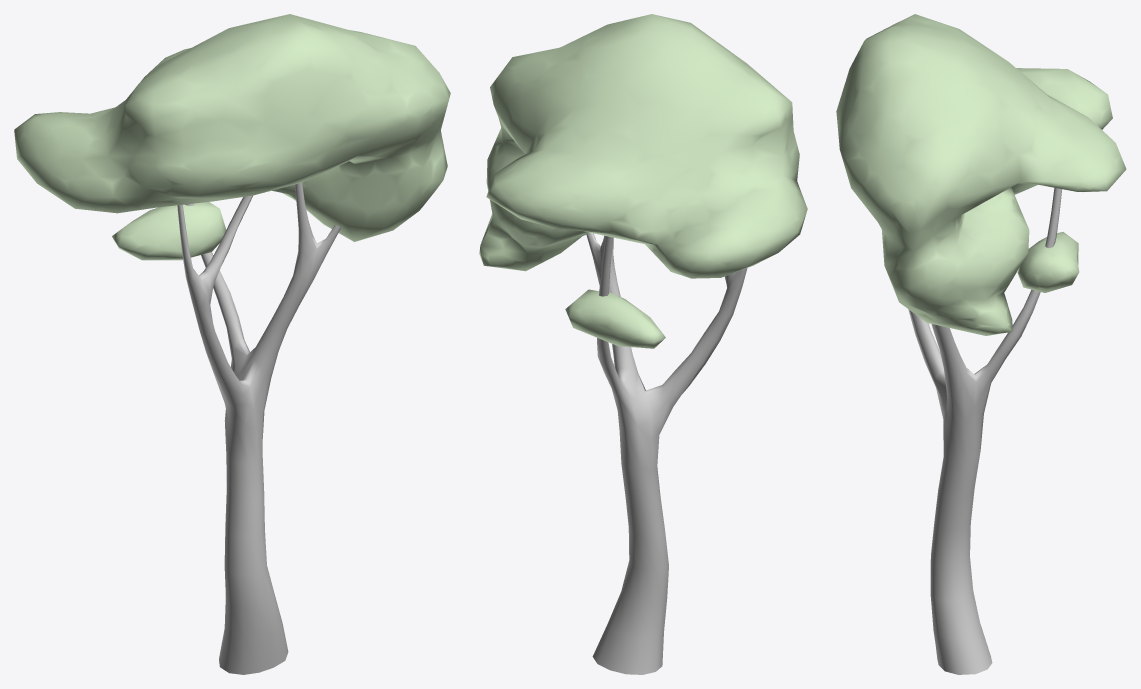
File: stylized-tree-05.fbx
3 views of the same model, side by side, from view 1: azimuth 30°, elevation 25°; view 2: azimuth 150°, elevation 25°; view 3: azimuth 270°, elevation 25° (orthographic). The views are drawn at different scales.
Parts seen in each view (by area): view 1: Tree_05_leaves, Tree_05_bark; view 2: Tree_05_leaves, Tree_05_bark; view 3: Tree_05_leaves, Tree_05_bark.
Part boxes in pixels (bbox=[...]): Tree_05_leaves: bbox=[14, 14, 450, 260]; Tree_05_bark: bbox=[177, 183, 340, 674]; Tree_05_leaves: bbox=[479, 14, 807, 348]; Tree_05_bark: bbox=[586, 233, 747, 674]; Tree_05_leaves: bbox=[836, 14, 1126, 335]; Tree_05_bark: bbox=[908, 187, 1061, 674].
Size of the model in its own units: 281 by 493 by 207.
